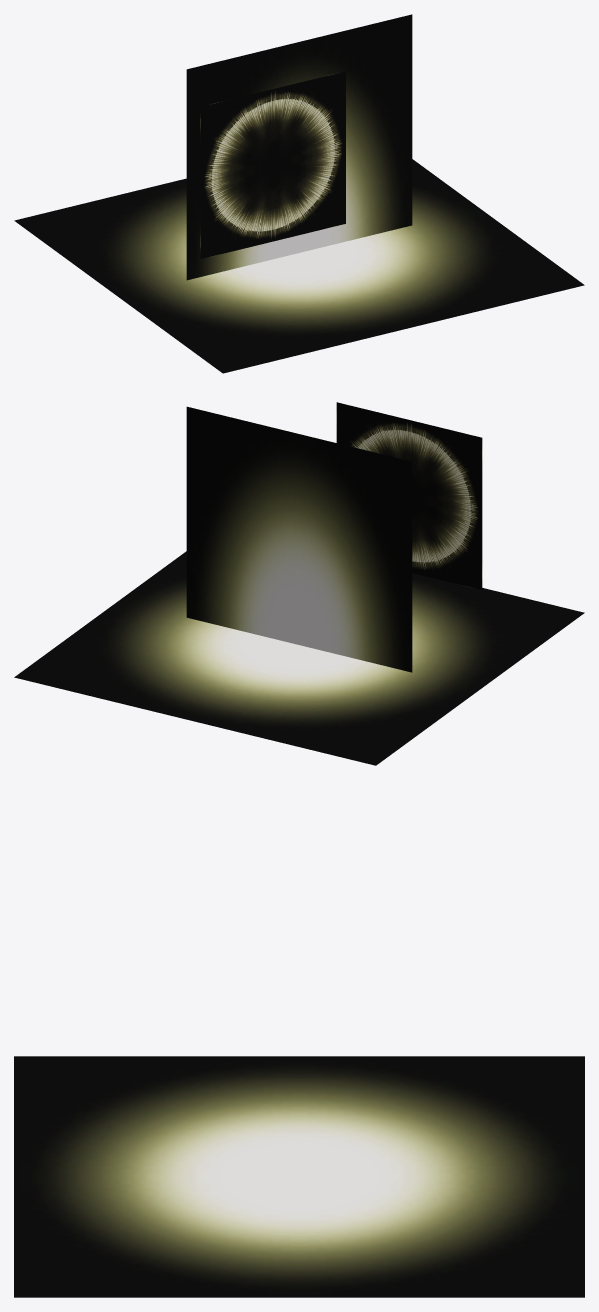
File: effect_yuqilin_1.FBX
3 renders of one model, top to bottom at view 1: azimuth 30°, elevation 25°; view 2: azimuth 150°, elevation 25°; view 3: azimuth 270°, elevation 25°, orthographic. The views are drawn at different scales.
Parts seen in each view (by area): view 1: effect_yuqilin_2, effect_yuqilin_1; view 2: effect_yuqilin_2, effect_yuqilin_1; view 3: effect_yuqilin_2.
Boxes of the visible parts, x1,y1,x2,y2 form: effect_yuqilin_2: (14,14,584,373); effect_yuqilin_1: (200,71,345,259); effect_yuqilin_2: (14,406,584,765); effect_yuqilin_1: (336,402,482,589); effect_yuqilin_2: (14,1056,584,1297).
Size of the model in its own units: 373 by 208 by 373.
2 materials, 2 textured.
